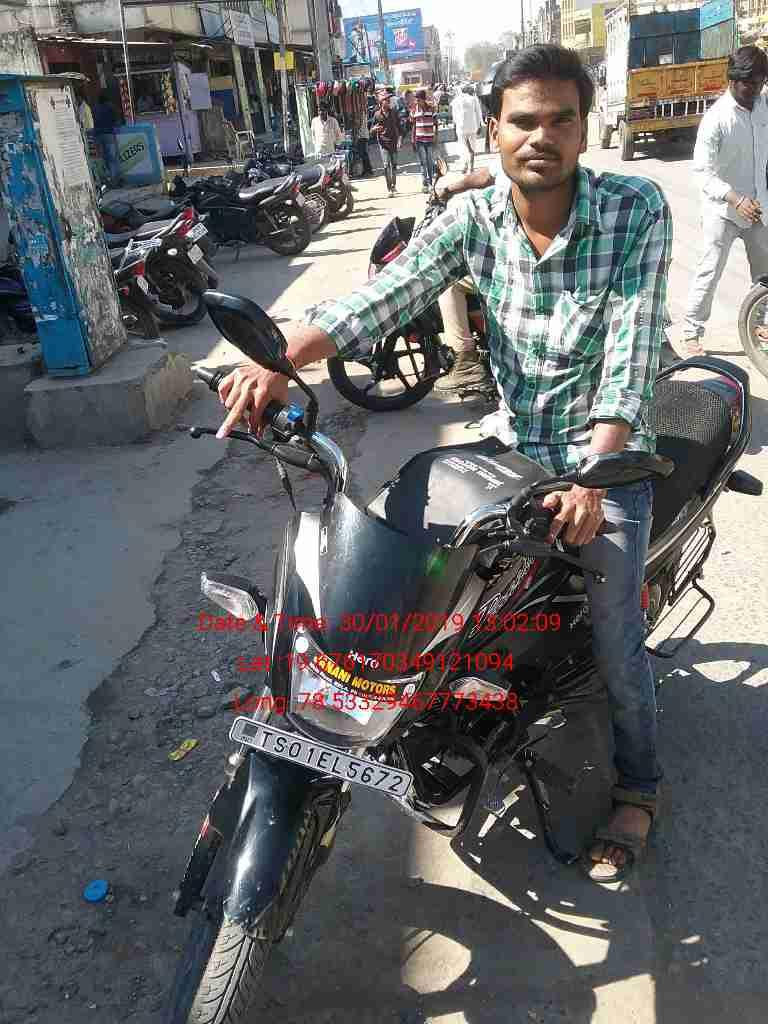plate: (227, 714, 419, 807), (183, 242, 207, 264)
